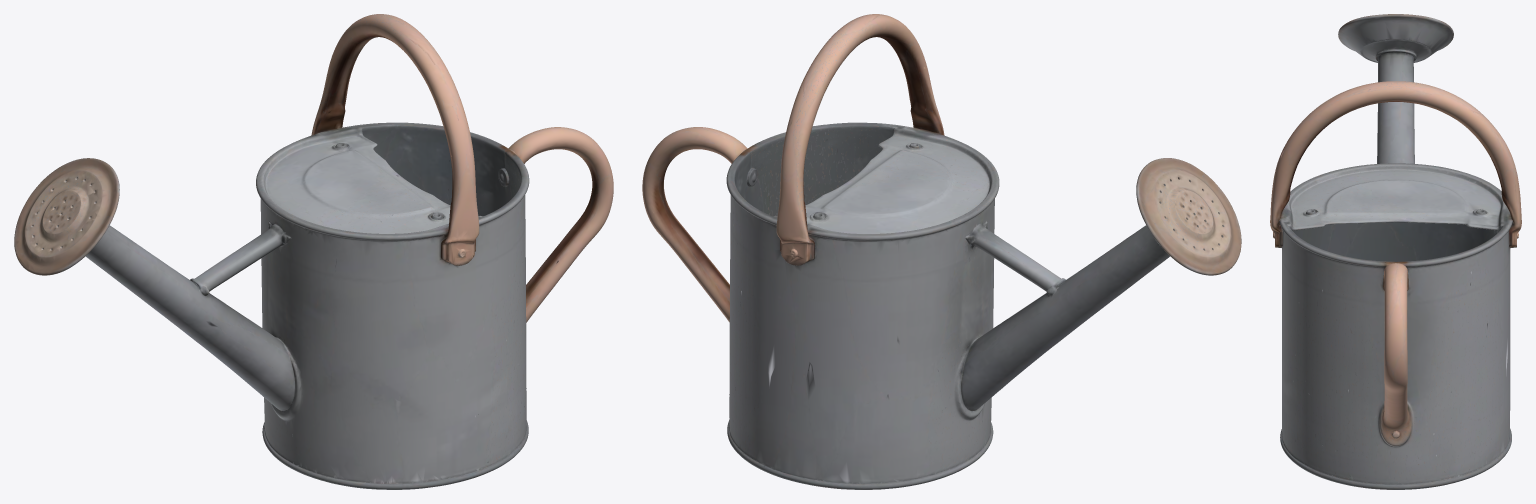
3 renders of one model, left to right at view 1: azimuth 30°, elevation 25°; view 2: azimuth 150°, elevation 25°; view 3: azimuth 270°, elevation 25°, orthographic. The views are drawn at different scales.
Parts seen in each view (by area): view 1: node_0; view 2: node_0; view 3: node_0.
Boxes of the visible parts, bbox=[...] form: node_0: bbox=[14, 14, 613, 489]; node_0: bbox=[642, 14, 1241, 489]; node_0: bbox=[1270, 14, 1521, 489].
Bounding box in the file's own units: 1.18 × 0.7924 × 0.499.
1 material, 1 textured.
